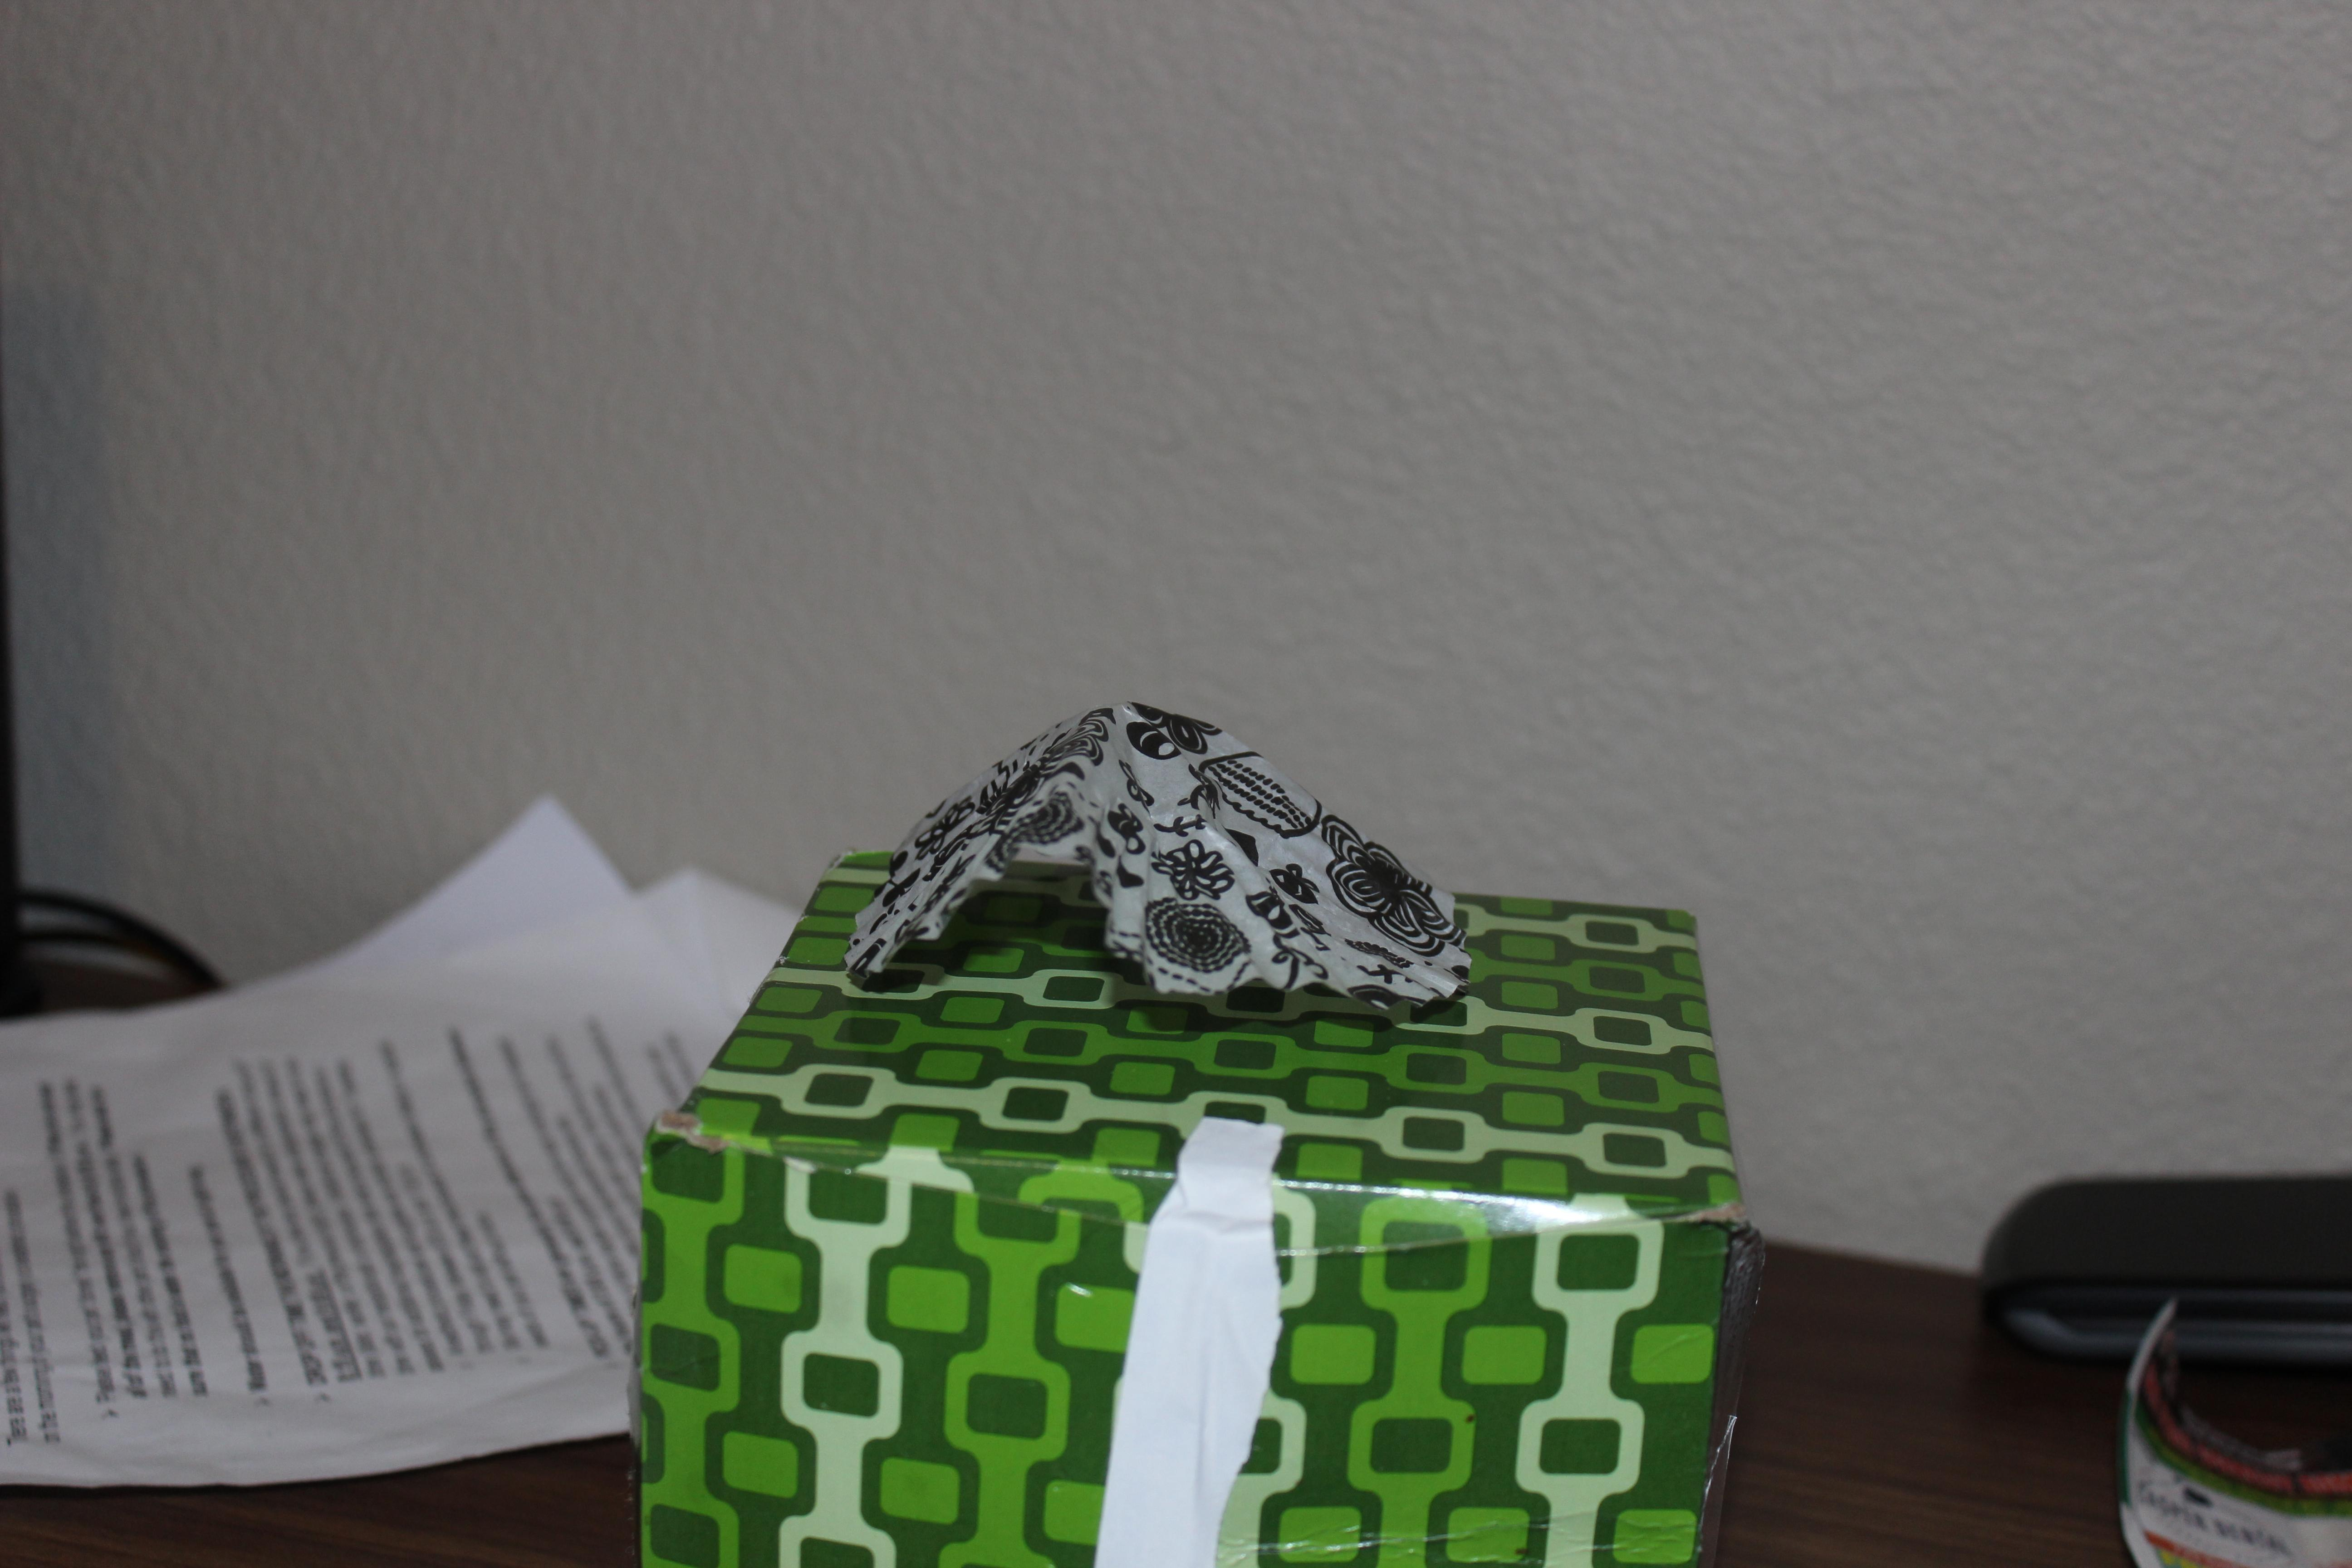cupcakePaper: (829, 646, 1482, 1055)
